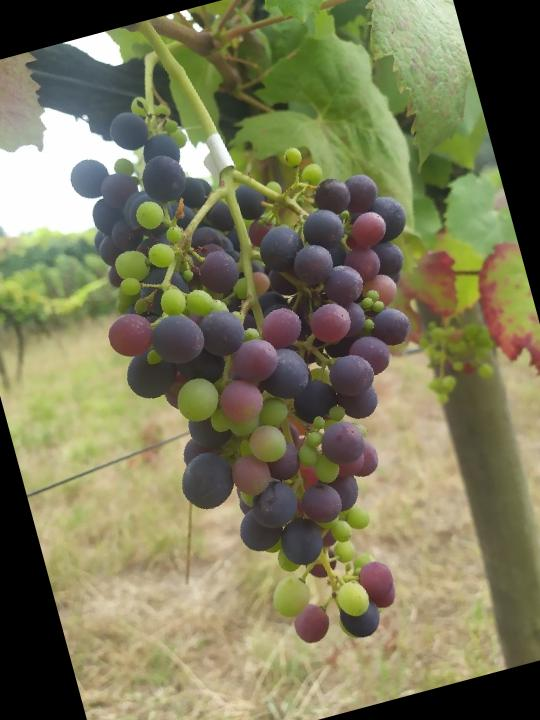grape: (50, 45, 513, 686)
